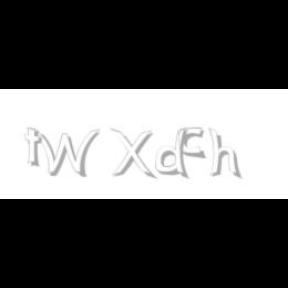W: (28, 128, 100, 178)
X: (110, 128, 154, 180)
c: (178, 128, 207, 160)
d: (156, 128, 192, 180)
h: (208, 128, 243, 180)
t: (24, 128, 46, 168)
